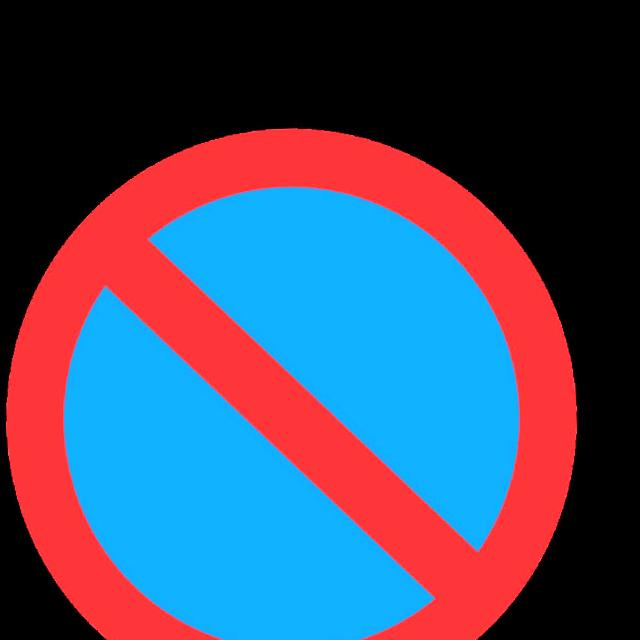forb_stopping: (2, 128, 576, 640)
